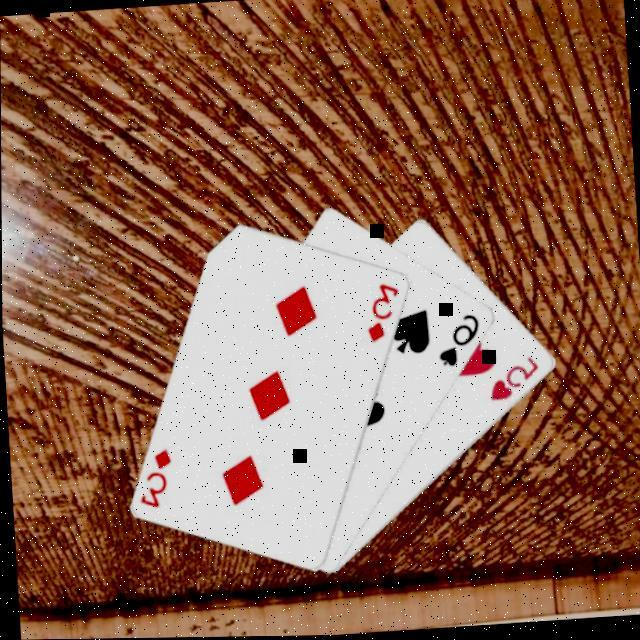3D: (133, 446, 176, 514), (361, 282, 404, 348)
5H: (485, 356, 543, 408)
6S: (432, 314, 484, 374)
